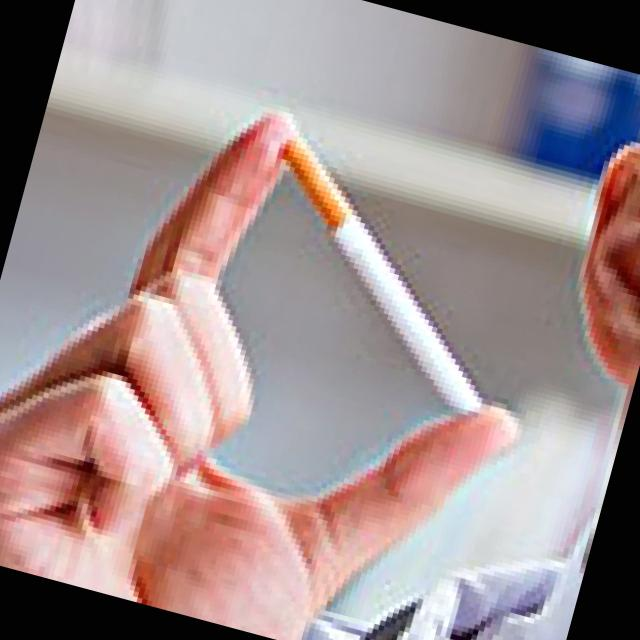cigarette: (231, 132, 540, 418)
